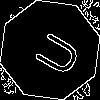U: (25, 25, 83, 80)
